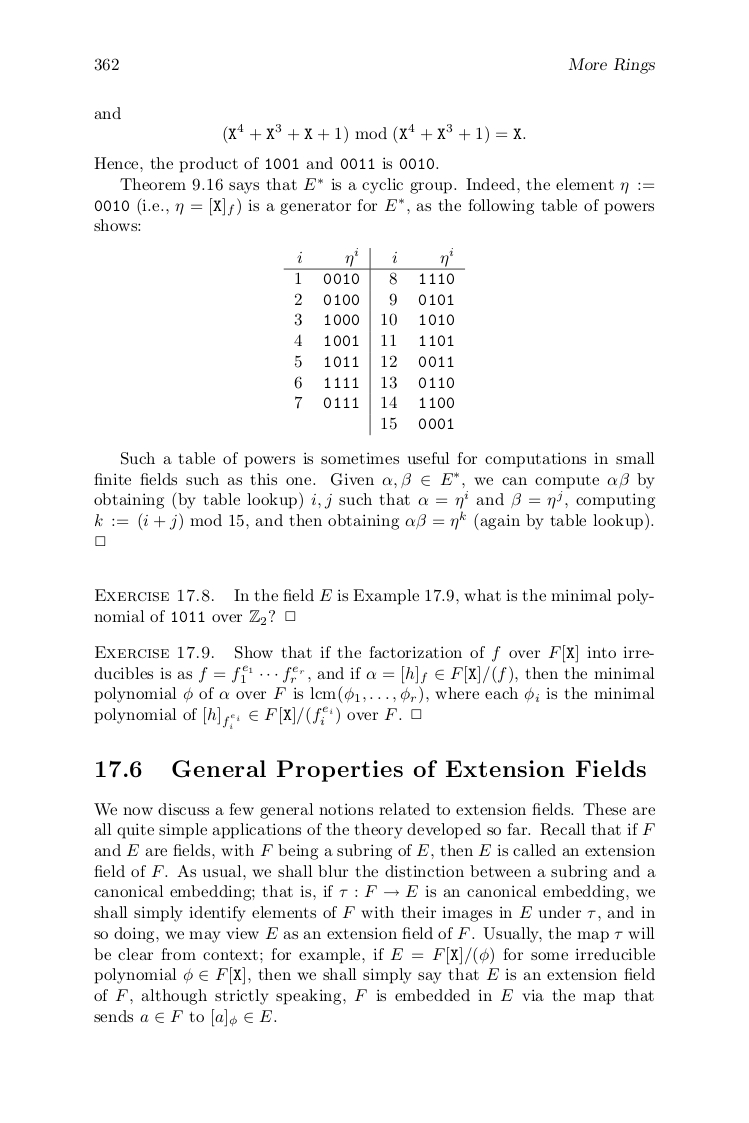Table: (283, 247, 464, 436)
formula: (223, 122, 525, 144)
